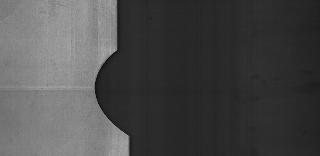welding line: (0, 84, 106, 96)
